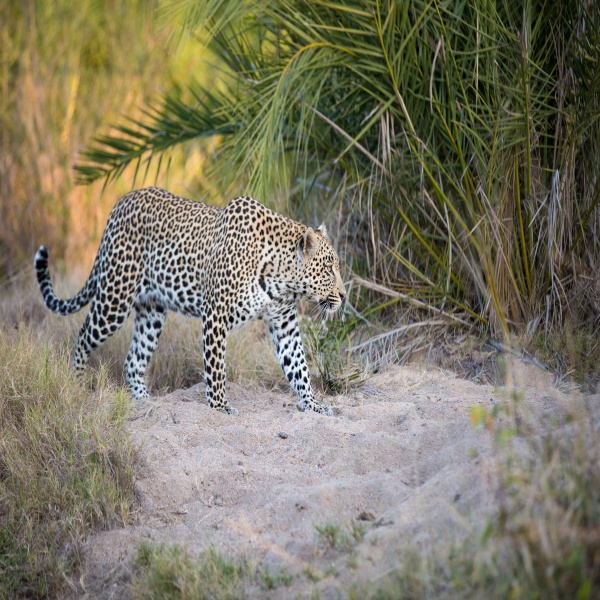Leopard: (34, 180, 351, 418)
